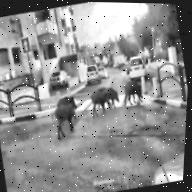boar: (117, 71, 149, 117), (83, 81, 114, 122), (52, 101, 83, 135), (53, 88, 80, 112), (103, 82, 122, 109)
